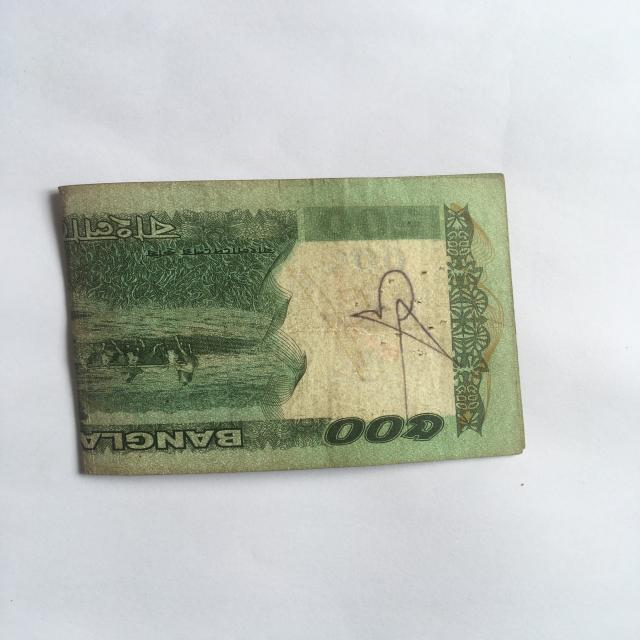Taka: (57, 173, 541, 474)
